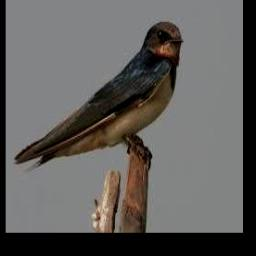Swallow: (14, 23, 183, 169)
